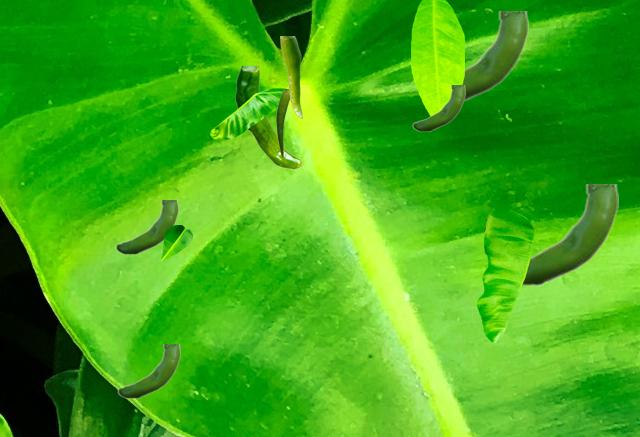green_chili: (522, 184, 617, 286), (235, 66, 301, 168), (463, 11, 527, 103), (115, 200, 177, 254), (117, 344, 179, 398), (412, 85, 464, 131), (280, 36, 301, 117), (276, 89, 289, 156)
